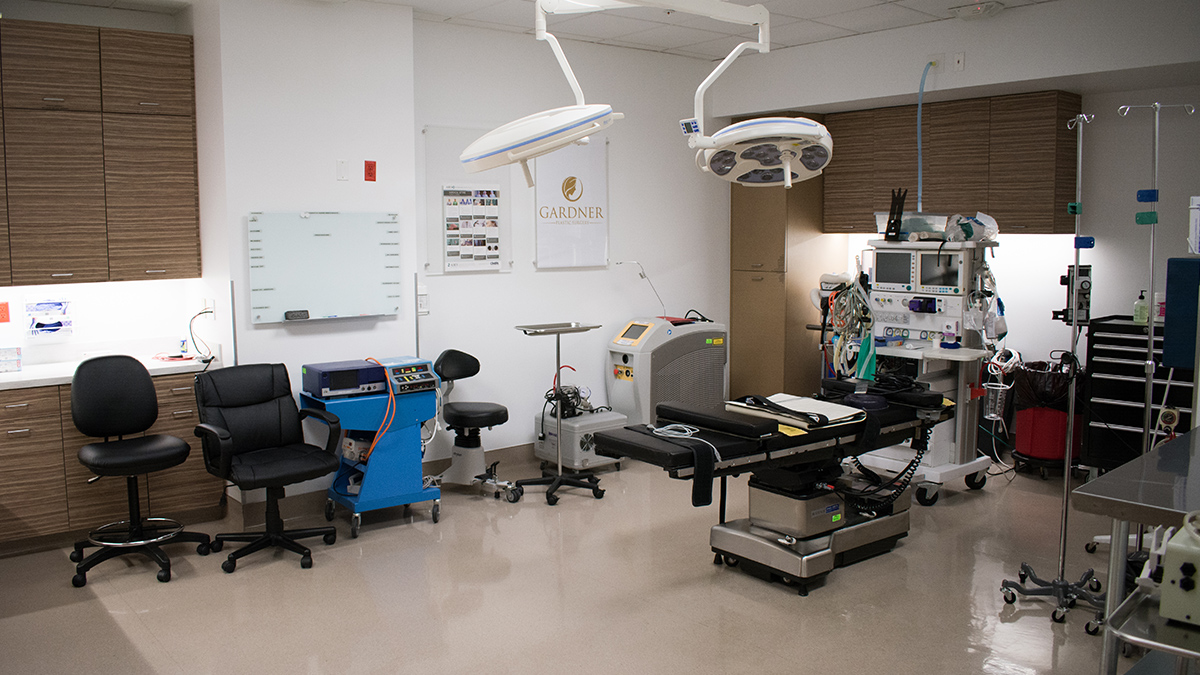cabinet: (1, 24, 204, 278), (731, 138, 795, 389)
chair: (66, 353, 210, 589), (193, 359, 344, 573), (431, 346, 534, 504)
counter: (1, 373, 224, 532)
countertop: (1, 347, 194, 381)
electrosurgical_unit: (301, 357, 394, 401), (384, 358, 445, 394), (336, 430, 380, 465)
exam_table: (1067, 420, 1200, 675)
handle: (168, 412, 194, 424), (53, 273, 76, 285), (139, 101, 164, 112), (149, 268, 169, 278), (7, 429, 37, 435), (44, 98, 67, 105), (2, 404, 34, 409), (171, 388, 191, 391)
iv_pole: (1114, 102, 1200, 446), (1057, 100, 1097, 586)
operating_bed: (593, 370, 960, 595)
surgical_light: (459, 107, 617, 178), (701, 109, 835, 192)
utility_cart: (513, 314, 608, 505)
ventilator: (857, 229, 984, 352)
